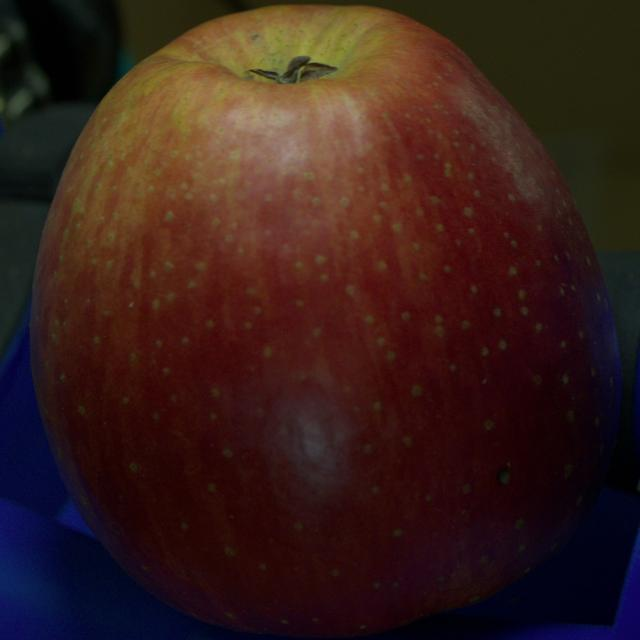apple: (31, 6, 621, 636)
pest: (499, 469, 510, 484)
